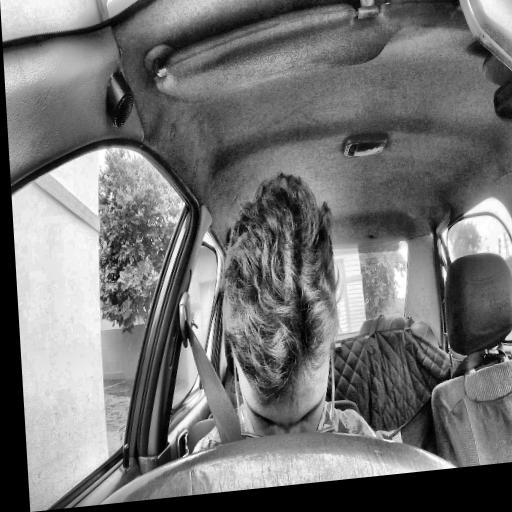drowsy: (216, 168, 346, 448)
